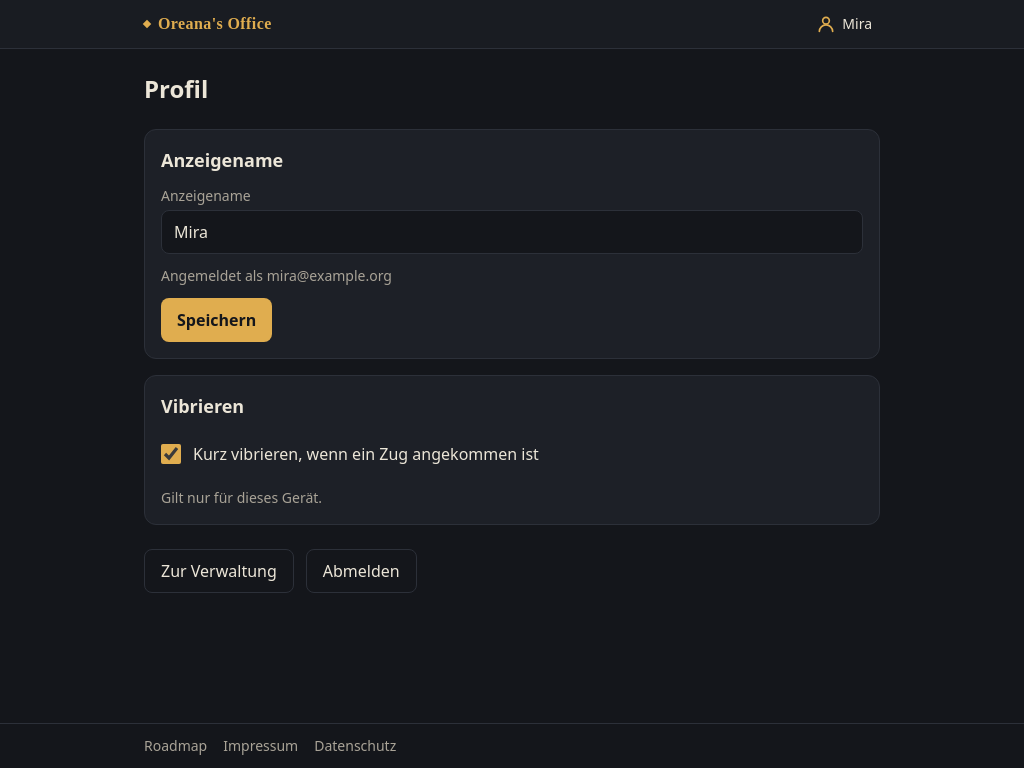
Test case: RequireAuth › shows the admin page to the admin, and the link to it in the profile
The image size is (1024, 768).
Step 1. Click the link "Zur Verwaltung" → {"x": 219, "y": 571}, box top-left (144, 549), bottom-right (294, 593)
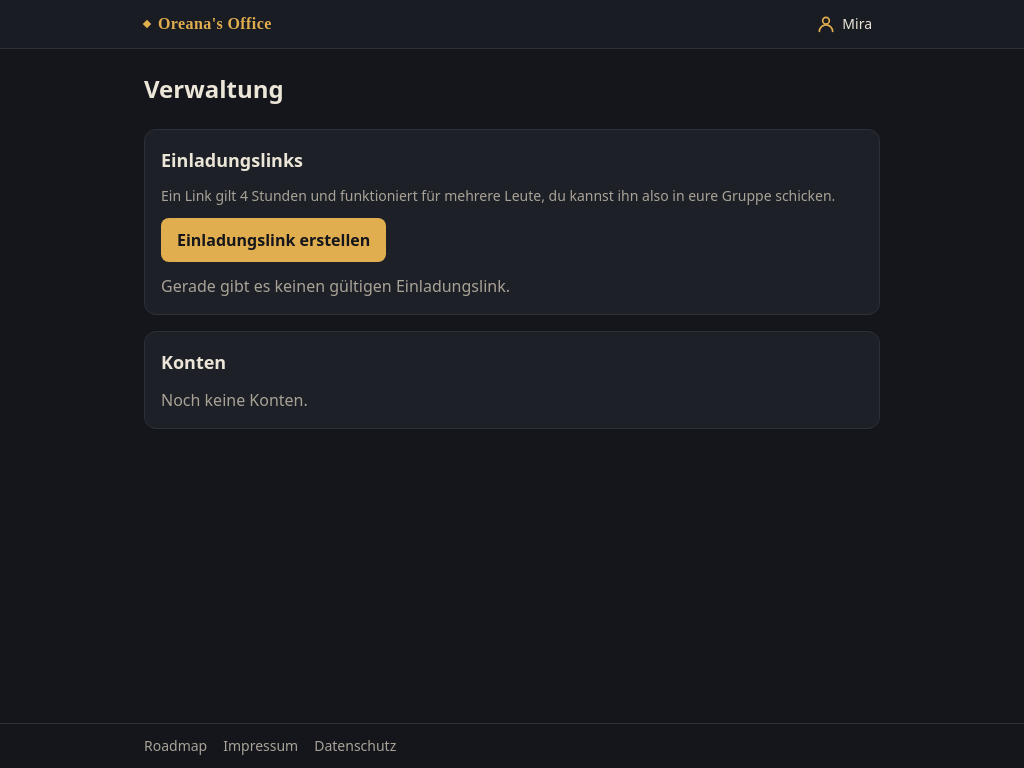
expect the heading "Verwaltung" is shown: met, box top-left (144, 72), bottom-right (284, 105)
expect the text "Gerade gibt es keinen gültigen Einladungslink." is shown: met, box top-left (161, 275), bottom-right (510, 297)
